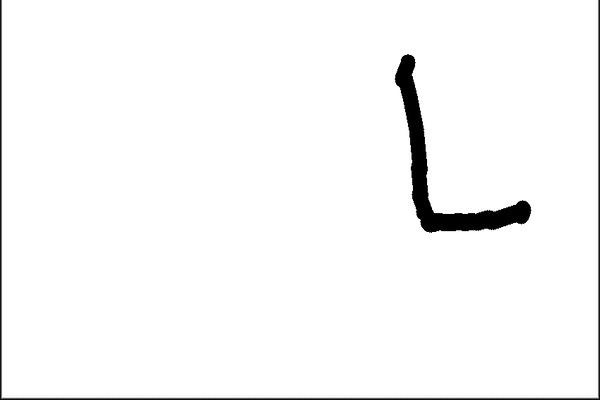L: (384, 42, 538, 236)
